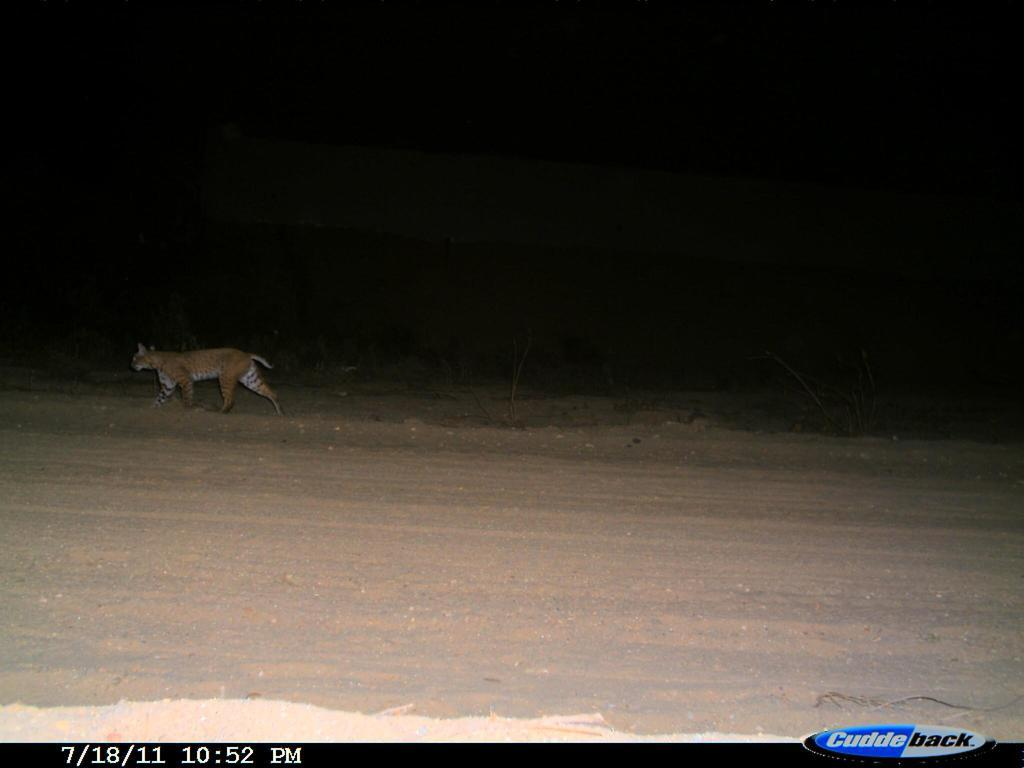bobcat: (122, 332, 291, 427)
